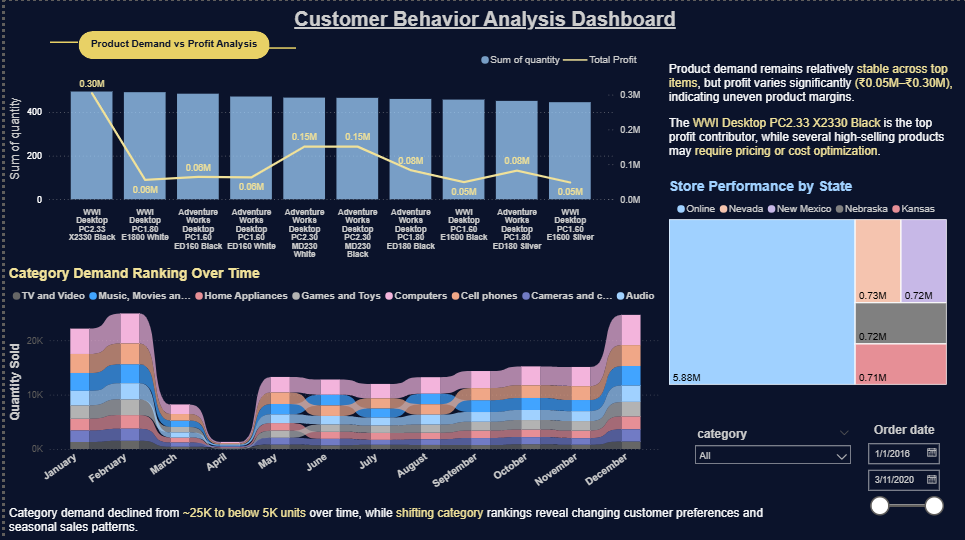

The page's visual inventory and layout, read from the dashboard file:
{"tool":"powerbi","page":{"name":"Product & Market","canvas":[1280,720],"ordinal":2},"visuals":[{"type":"textbox","title":"Customer Behavior Analysis Dashboard","box":[272,0,736,38],"z":0},{"type":"shape","box":[97.5,40,255,37.5],"z":1000},{"type":"shape","box":[351.8,57.2,35.9,9.4],"z":2000},{"type":"shape","box":[60,50,37.5,10],"z":3000},{"type":"lineClusteredColumnComboChart","fields":{"Category":["customerCleaned_data.product_name"],"Y":["Sum(customerCleaned_data.quantity)"],"Y2":["customerCleaned_data.Total Profit"]},"box":[0,58,852,294],"z":4000},{"type":"ribbonChart","title":"Category Demand Ranking Over Time","fields":{"Category":["customerCleaned_data.order_date.Variation.Date Hierarchy.Month"],"Series":["customerCleaned_data.category"],"Y":["Sum(customerCleaned_data.quantity)"]},"box":[0,352,880,316],"z":5000},{"type":"treemap","title":"Store Performance by State","fields":{"Group":["customerCleaned_data.store_state"],"Values":["customerCleaned_data.Total Profit"]},"box":[880,235,380,280],"z":6000},{"type":"slicer","fields":{"Values":["customerCleaned_data.category"]},"box":[910,562,228,80],"z":7000},{"type":"slicer","title":"Order date","fields":{"Values":["customerCleaned_data.order_date"]},"box":[1138,562,122,158],"z":8000},{"type":"textbox","box":[880,75,400,140],"z":8001},{"type":"textbox","box":[0,668,1064,52],"z":8002}]}

Visuals, with their boxes in screenshot pixels (x1, y1, x2, y2), scaled from the page's 1280x720 canvas onto the 965x540 screenshot:
"Customer Behavior Analysis Dashboard" textbox: (x1=205, y1=0, x2=760, y2=28)
shape: (x1=74, y1=30, x2=266, y2=58)
shape: (x1=265, y1=43, x2=292, y2=50)
shape: (x1=45, y1=38, x2=74, y2=45)
lineClusteredColumnComboChart - customerCleaned_data.product_name x Sum(customerCleaned_data.quantity): (x1=0, y1=44, x2=642, y2=264)
"Category Demand Ranking Over Time" ribbonChart: (x1=0, y1=264, x2=663, y2=501)
"Store Performance by State" treemap: (x1=663, y1=176, x2=950, y2=386)
slicer - customerCleaned_data.category: (x1=686, y1=422, x2=858, y2=482)
"Order date" slicer: (x1=858, y1=422, x2=950, y2=539)
textbox: (x1=663, y1=56, x2=964, y2=161)
textbox: (x1=0, y1=501, x2=802, y2=539)
